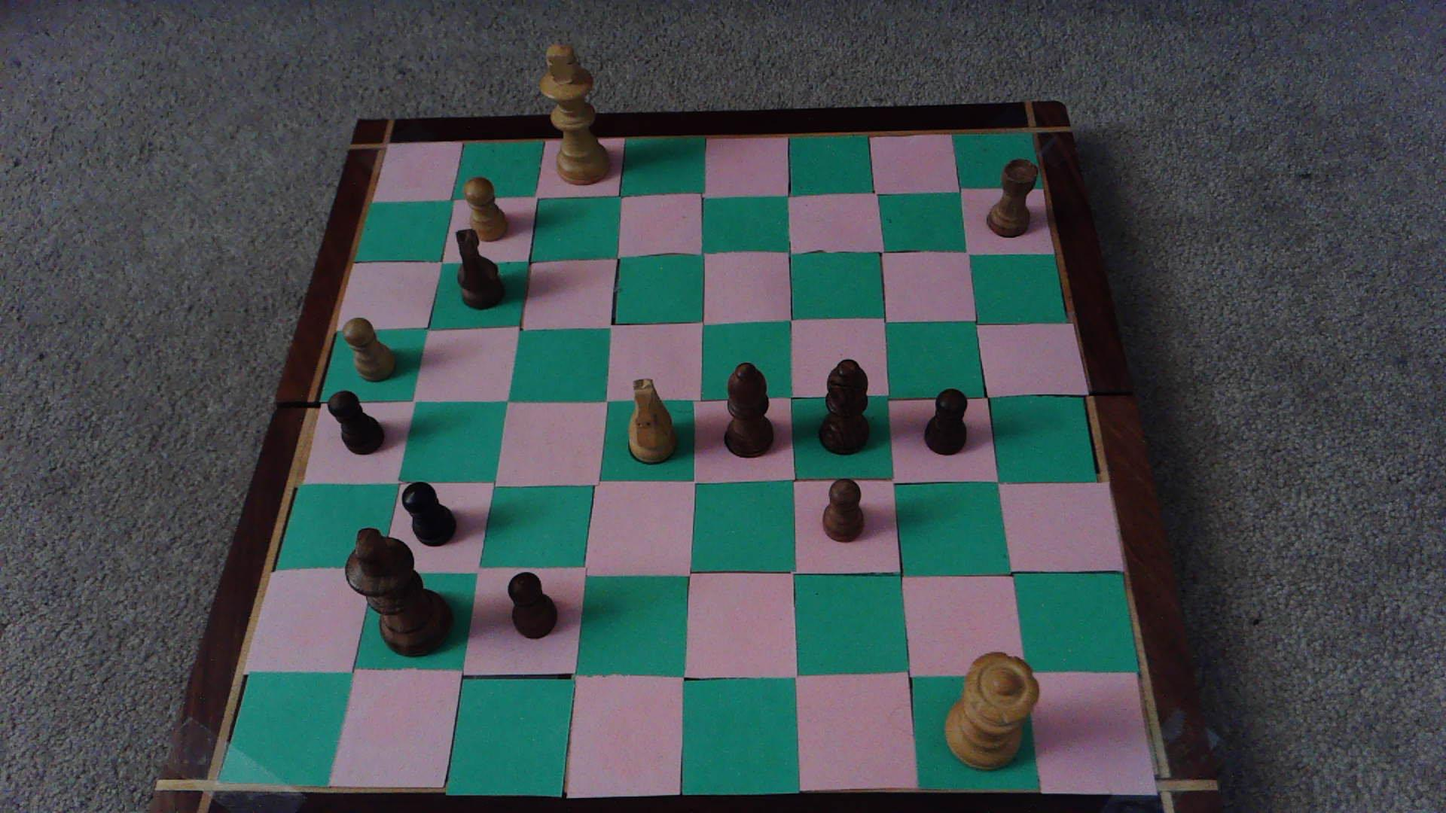dark_piece: (346, 528, 451, 656), (820, 359, 868, 453), (725, 362, 773, 455), (453, 228, 504, 309), (988, 159, 1037, 236), (328, 392, 383, 454), (403, 482, 454, 546), (508, 572, 557, 637), (925, 388, 966, 454), (822, 479, 863, 541)
white_piece: (946, 653, 1039, 769), (540, 47, 611, 184), (627, 377, 675, 465), (342, 317, 395, 383), (464, 177, 508, 241)
